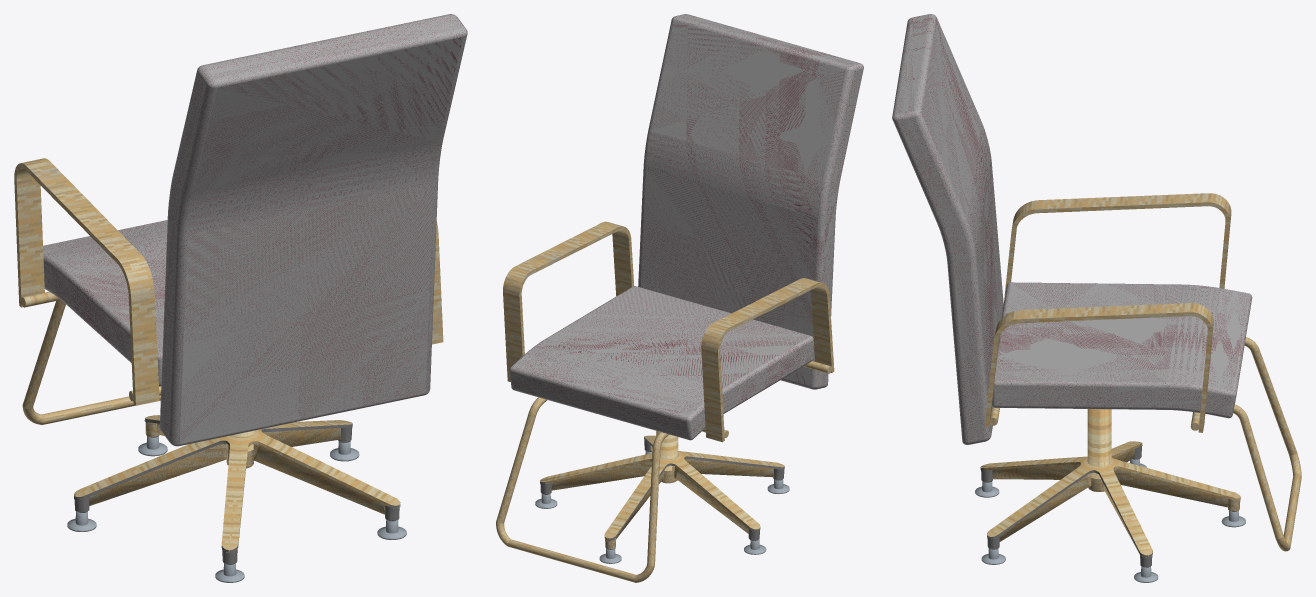
3 views of the same model, side by side, from view 1: azimuth 30°, elevation 25°; view 2: azimuth 150°, elevation 25°; view 3: azimuth 270°, elevation 25° (orthographic). The views are drawn at different scales.
Parts seen in each view (by area): view 1: mesh2_mesh2-geometry, mesh11_mesh11-geometry, mesh3_mesh3-geometry, mesh34_mesh34-geometry, mesh7_mesh7-geometry, mesh31_mesh31-geometry, mesh29_mesh29-geometry, mesh13_mesh13-geometry, mesh39_mesh39-geometry, mesh10_mesh10-geometry, mesh21_mesh21-geometry; view 2: mesh2_mesh2-geometry, mesh3_mesh3-geometry, mesh11_mesh11-geometry, mesh10_mesh10-geometry, mesh34_mesh34-geometry, mesh7_mesh7-geometry, mesh39_mesh39-geometry, mesh42_mesh42-geometry, mesh31_mesh31-geometry, mesh13_mesh13-geometry; view 3: mesh3_mesh3-geometry, mesh2_mesh2-geometry, mesh34_mesh34-geometry, mesh10_mesh10-geometry, mesh11_mesh11-geometry, mesh7_mesh7-geometry, mesh66_mesh66-geometry, mesh28_mesh28-geometry, mesh42_mesh42-geometry, mesh29_mesh29-geometry, mesh13_mesh13-geometry.
Boxes of the visible parts, x1,y1,x2,y2 form: mesh2_mesh2-geometry: [159, 14, 467, 446]; mesh11_mesh11-geometry: [14, 158, 159, 405]; mesh3_mesh3-geometry: [43, 220, 167, 386]; mesh34_mesh34-geometry: [74, 415, 400, 553]; mesh7_mesh7-geometry: [22, 300, 160, 424]; mesh31_mesh31-geometry: [89, 443, 227, 505]; mesh29_mesh29-geometry: [252, 444, 384, 514]; mesh13_mesh13-geometry: [67, 442, 406, 582]; mesh39_mesh39-geometry: [263, 428, 340, 446]; mesh10_mesh10-geometry: [432, 221, 443, 344]; mesh21_mesh21-geometry: [75, 436, 398, 576]; mesh2_mesh2-geometry: [638, 14, 863, 389]; mesh3_mesh3-geometry: [509, 286, 813, 440]; mesh11_mesh11-geometry: [701, 278, 834, 442]; mesh10_mesh10-geometry: [503, 221, 634, 381]; mesh34_mesh34-geometry: [540, 435, 784, 540]; mesh7_mesh7-geometry: [496, 397, 669, 582]; mesh39_mesh39-geometry: [551, 461, 651, 490]; mesh42_mesh42-geometry: [685, 458, 774, 477]; mesh31_mesh31-geometry: [674, 467, 748, 533]; mesh13_mesh13-geometry: [535, 484, 789, 563]; mesh3_mesh3-geometry: [992, 282, 1252, 418]; mesh2_mesh2-geometry: [892, 14, 1003, 444]; mesh34_mesh34-geometry: [980, 441, 1240, 557]; mesh10_mesh10-geometry: [985, 303, 1213, 432]; mesh11_mesh11-geometry: [1003, 193, 1231, 303]; mesh7_mesh7-geometry: [1233, 337, 1301, 551]; mesh66_mesh66-geometry: [1087, 409, 1111, 479]; mesh28_mesh28-geometry: [1114, 469, 1227, 507]; mesh42_mesh42-geometry: [992, 462, 1080, 479]; mesh29_mesh29-geometry: [999, 474, 1091, 541]; mesh13_mesh13-geometry: [975, 463, 1245, 582].
Size of the model in its own units: 0.4173 by 0.7036 by 0.5752.
